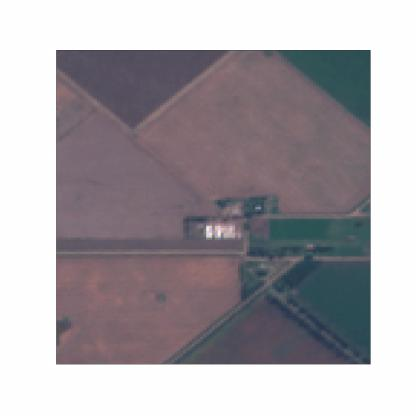silobolsa: (213, 225, 224, 240), (223, 225, 235, 238), (204, 225, 212, 240)
